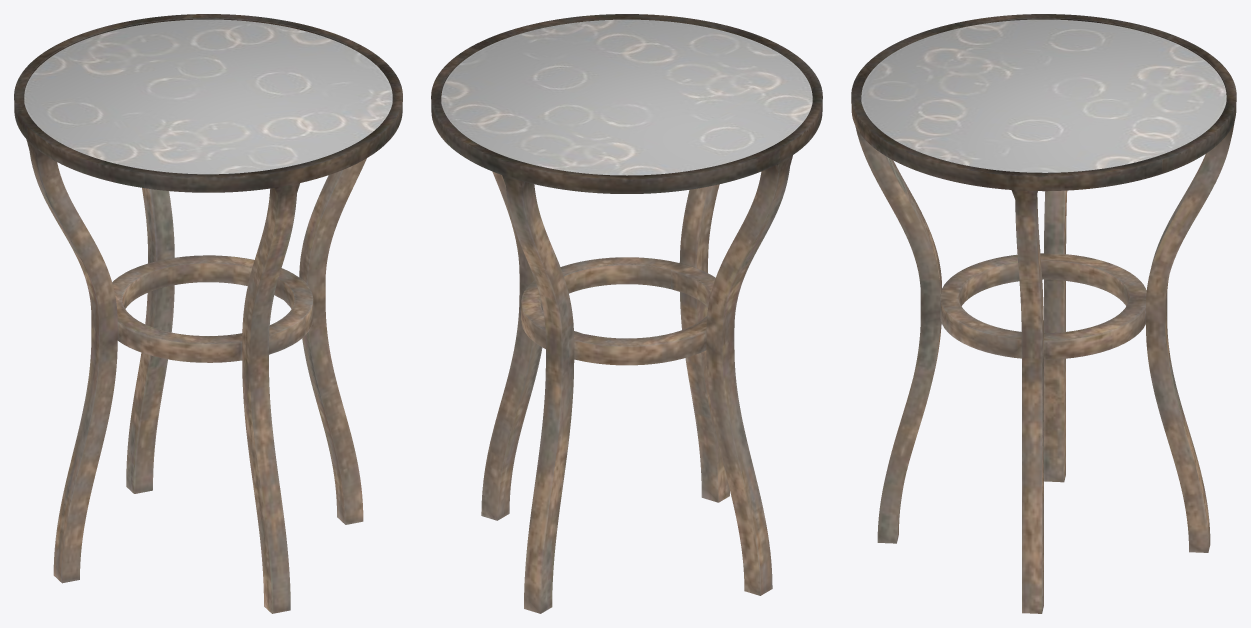
Rendered from mesa.glb.
The picture shows the model from 3 angles, left to right: view 1: azimuth 30°, elevation 25°; view 2: azimuth 150°, elevation 25°; view 3: azimuth 270°, elevation 25°; orthographic projection.
Visible parts, largest first — view 1: garden_table; view 2: garden_table; view 3: garden_table.
Part boxes in pixels (left/top/right/bottom): garden_table: left=14, top=14, right=402, bottom=613; garden_table: left=431, top=14, right=822, bottom=613; garden_table: left=851, top=14, right=1236, bottom=613.
Bounding box in the file's own units: 0.5187 × 0.6657 × 0.5187.
Materials: 1 (1 with a texture image).
